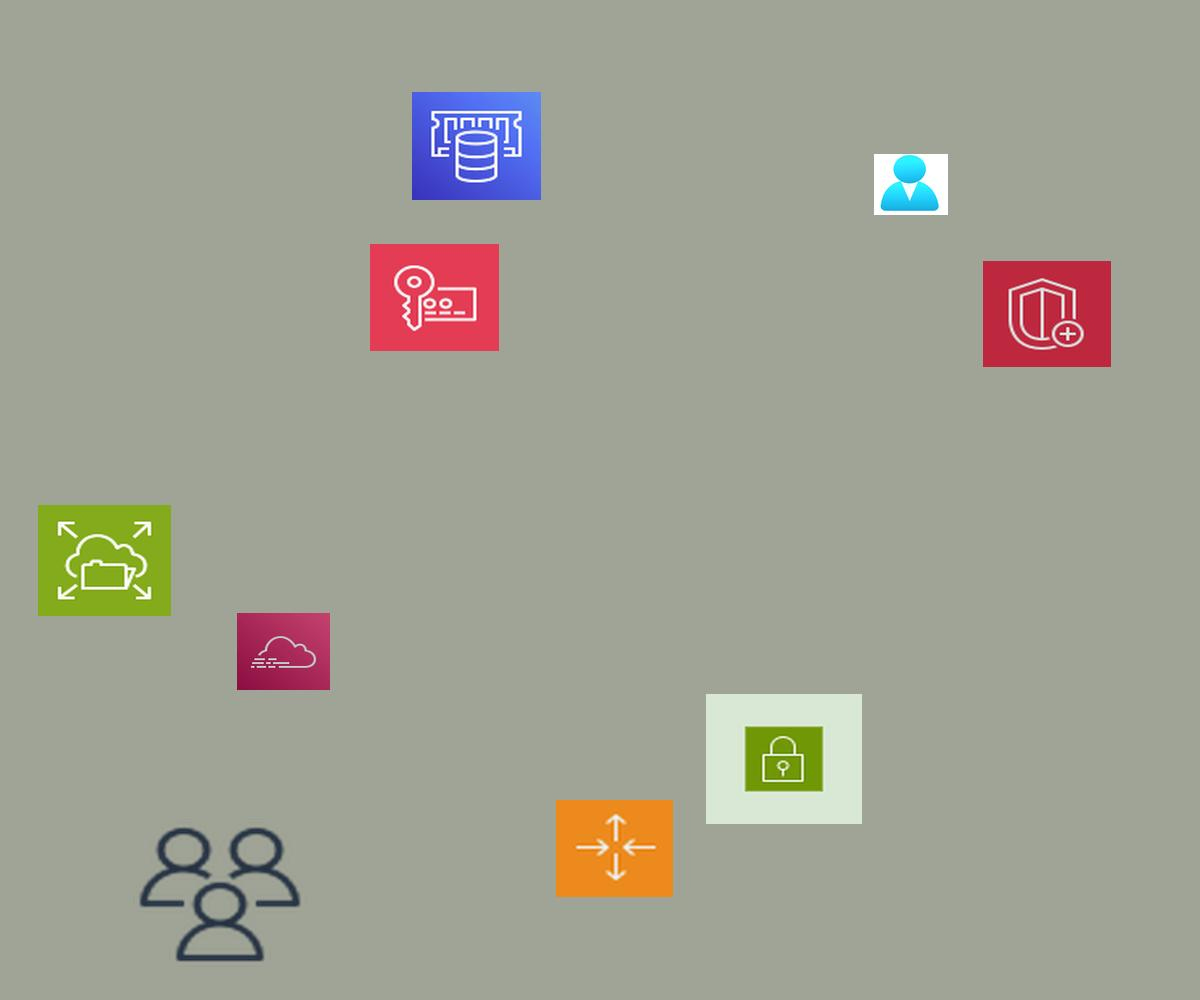AWS-CloudTrail: (237, 613, 330, 690)
AWS-EFS: (38, 505, 171, 616)
AWS-ElastiCache: (412, 92, 541, 200)
AWS-Key-Management-Service: (370, 244, 499, 351)
AWS-Public-subnet: (706, 694, 862, 824)
AWS-Res_Users: (133, 822, 307, 967)
AWS-Scaling-group: (556, 800, 673, 897)
AWS-Shield: (983, 261, 1111, 367)
Azure_users: (874, 154, 948, 215)
